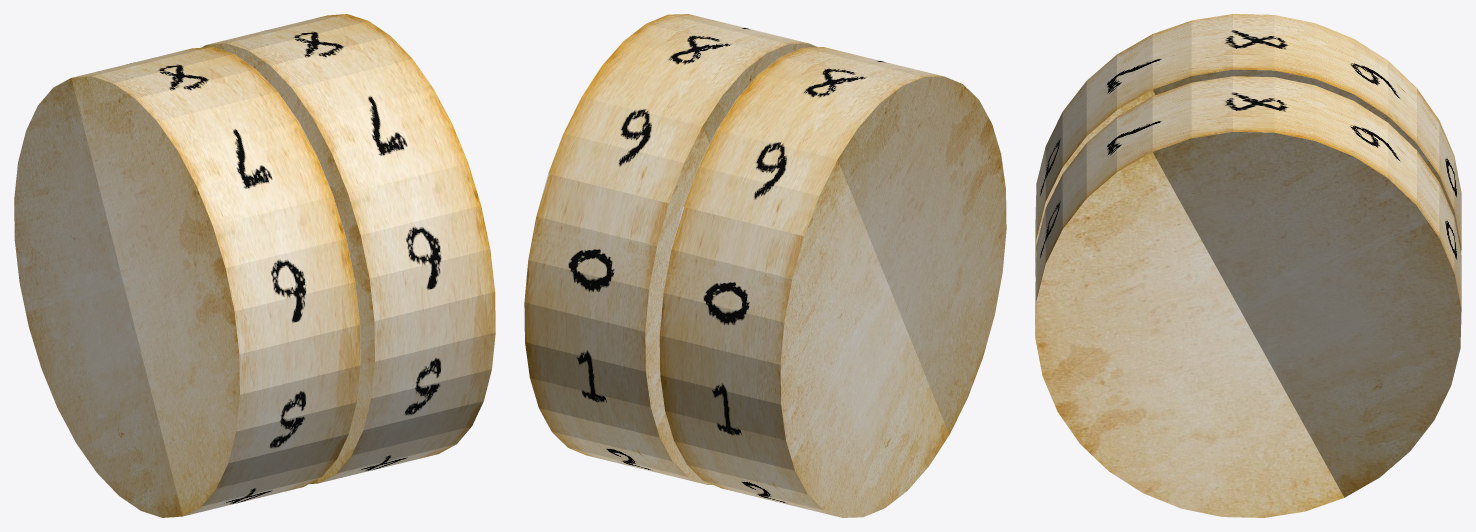
File: counter.glb
3 renders of one model, left to right at view 1: azimuth 30°, elevation 25°; view 2: azimuth 150°, elevation 25°; view 3: azimuth 270°, elevation 25°, orthographic. The views are drawn at different scales.
Visible parts, largest first — view 1: Register Ones, Register Tens; view 2: Register Ones, Register Tens; view 3: Register Tens, Register Ones.
Part boxes in pixels (x1,y1,x2,y2): Register Ones: (14,47,360,517); Register Tens: (202,14,495,484); Register Ones: (659,47,1006,517); Register Tens: (524,14,817,484); Register Tens: (1035,76,1461,517); Register Ones: (1035,14,1461,276).
Size of the model in its own units: 1.31 by 1.99 by 1.99.
Materials: 2 (2 with a texture image).
